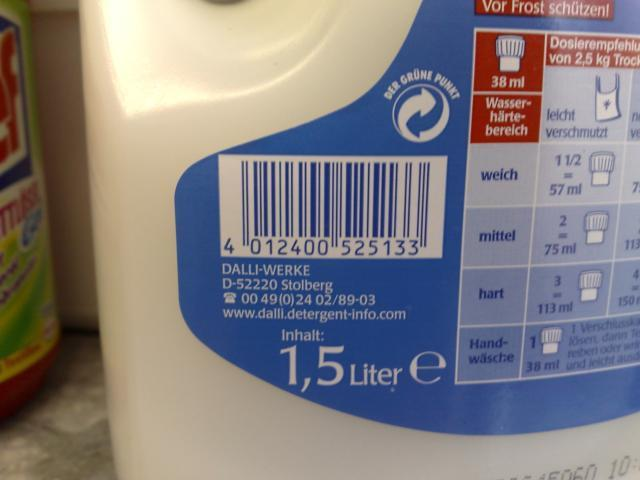Barcode: (220, 153, 447, 262)
